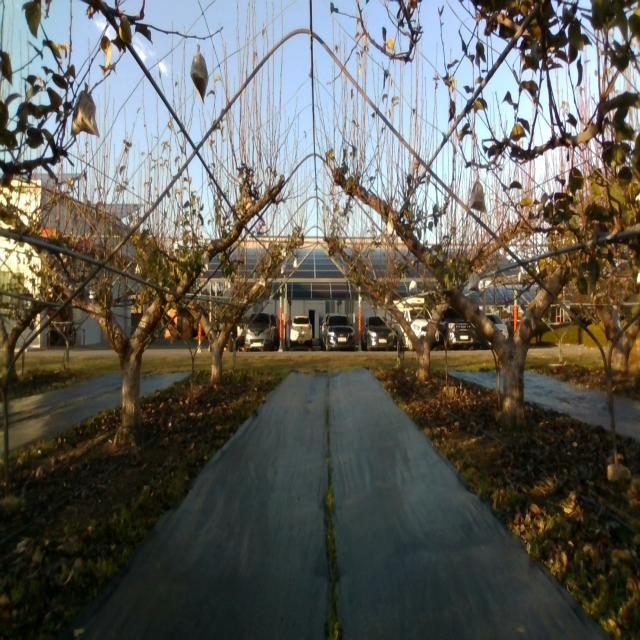pearbags: (70, 91, 100, 138), (191, 52, 209, 104), (469, 182, 486, 214), (468, 272, 480, 292)
